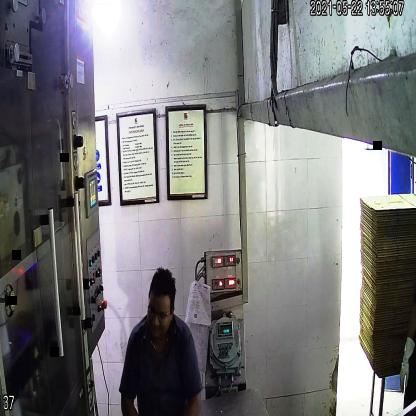goggles: (141, 296, 174, 325)
